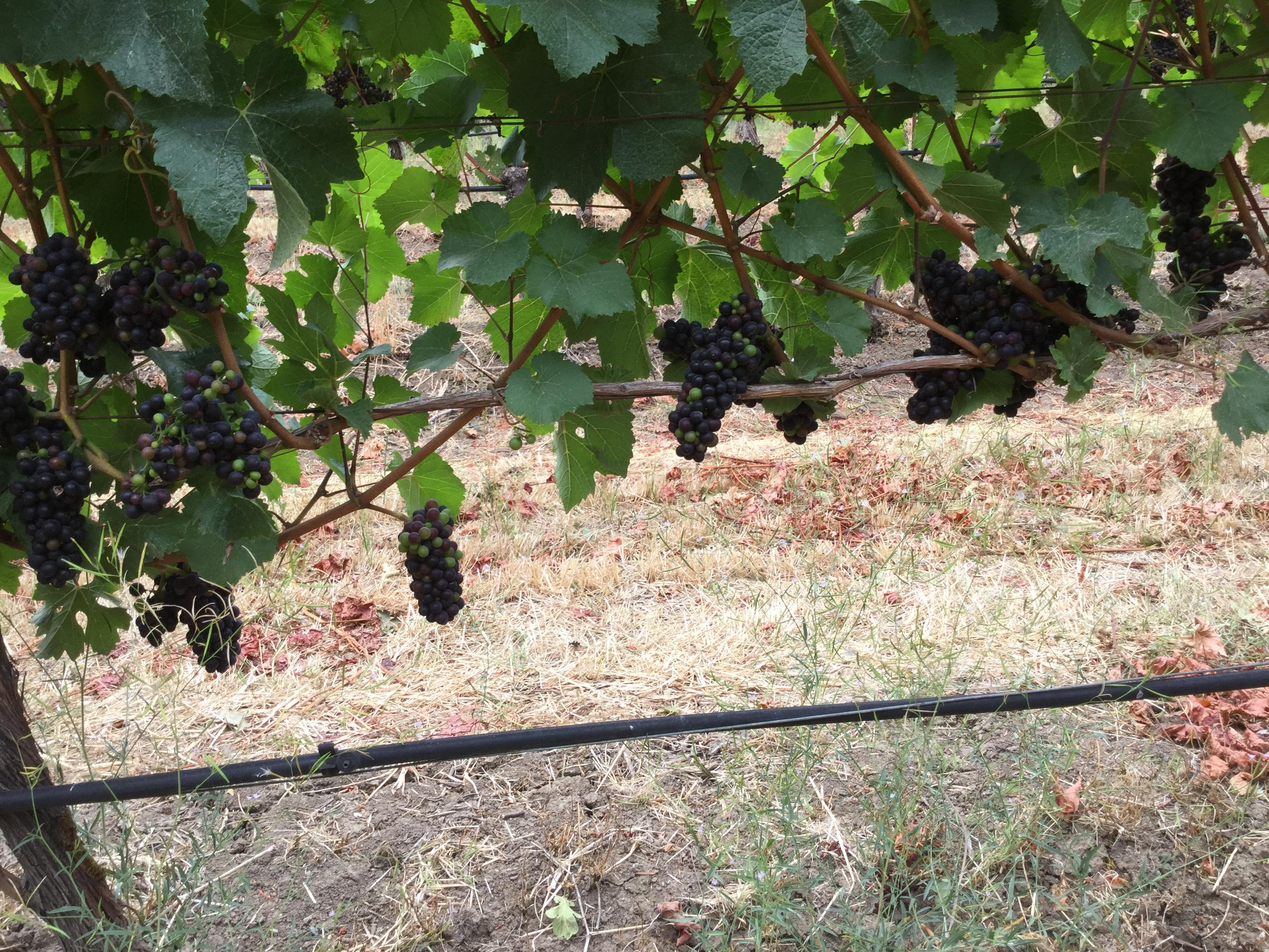leaf: (134, 43, 359, 242), (500, 4, 706, 202), (15, 0, 212, 102), (255, 285, 350, 407), (179, 467, 277, 585), (526, 215, 634, 319), (518, 0, 658, 79), (1040, 192, 1146, 285), (68, 149, 152, 255), (554, 401, 634, 510), (1152, 84, 1250, 169), (31, 576, 130, 658), (435, 202, 529, 283), (729, 0, 808, 95), (504, 352, 593, 424), (346, 0, 451, 60), (841, 207, 914, 289), (874, 37, 956, 110), (374, 166, 459, 232), (1211, 350, 1268, 445), (262, 159, 311, 269), (675, 242, 740, 324), (344, 226, 407, 303), (771, 198, 845, 262), (935, 172, 1011, 234), (622, 229, 683, 306), (595, 299, 654, 378), (833, 0, 889, 81), (403, 251, 464, 325), (398, 38, 472, 97), (1037, 0, 1092, 79), (1051, 325, 1107, 402), (397, 453, 465, 513), (484, 299, 548, 362), (205, 0, 279, 54), (1134, 268, 1197, 331), (828, 144, 883, 216), (808, 294, 871, 355), (720, 145, 784, 203), (306, 194, 366, 255), (949, 369, 1013, 422), (407, 322, 462, 372), (285, 255, 338, 306), (930, 0, 998, 35), (1073, 0, 1131, 40), (505, 189, 550, 236), (865, 144, 908, 192), (0, 294, 31, 350), (901, 156, 946, 192), (334, 397, 374, 437), (369, 374, 418, 405), (0, 544, 25, 593), (974, 226, 1005, 260), (920, 228, 958, 255), (271, 451, 301, 485), (1246, 138, 1268, 184), (535, 322, 565, 351), (309, 296, 321, 309), (392, 452, 402, 466), (490, 0, 507, 5), (1052, 0, 1058, 2), (358, 301, 364, 302), (275, 180, 276, 184), (1053, 0, 1056, 1), (14, 288, 16, 289), (10, 285, 12, 286)
